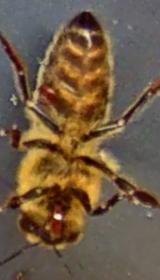varroa_mite: (33, 74, 62, 100)
